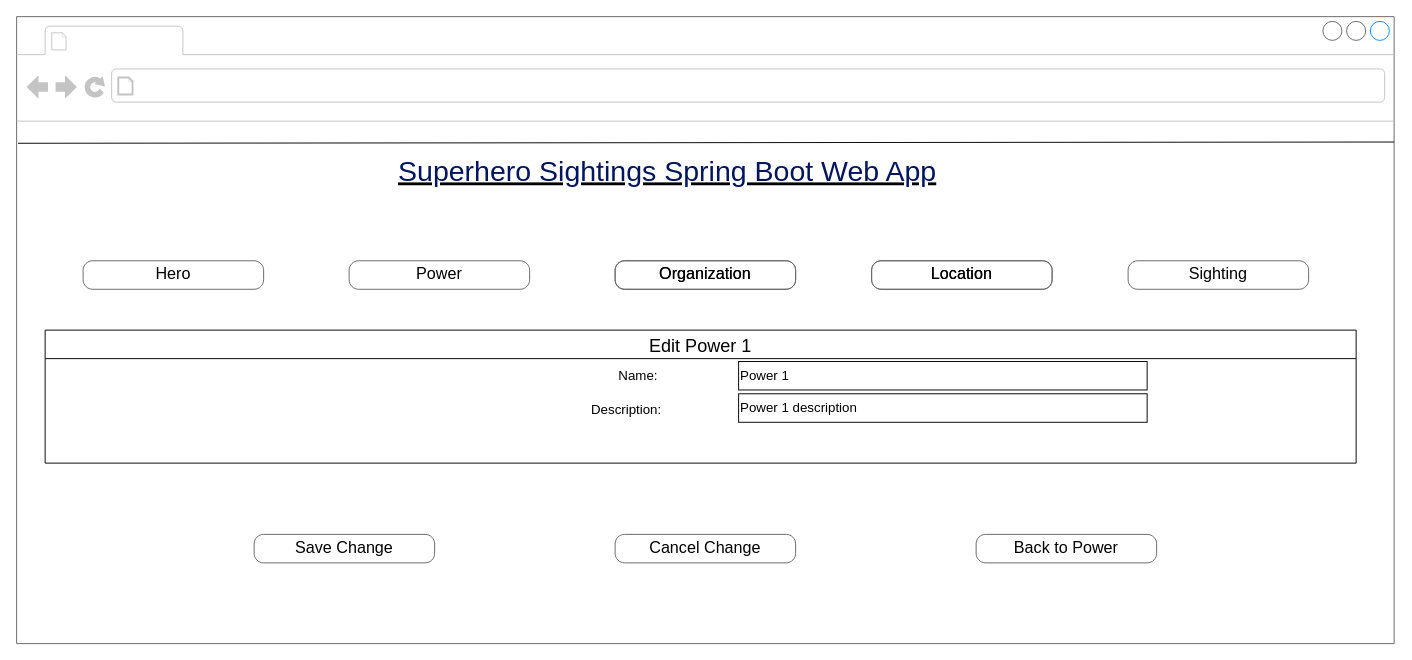
This 1412x660 diagram has some shape labels left out. The shapes that lost their labels are listed below. From the top down, each one's centre as x and y in pixels, then its label:
the point at 144,40: Edit Power
the point at 258,85: https://www.default.com
